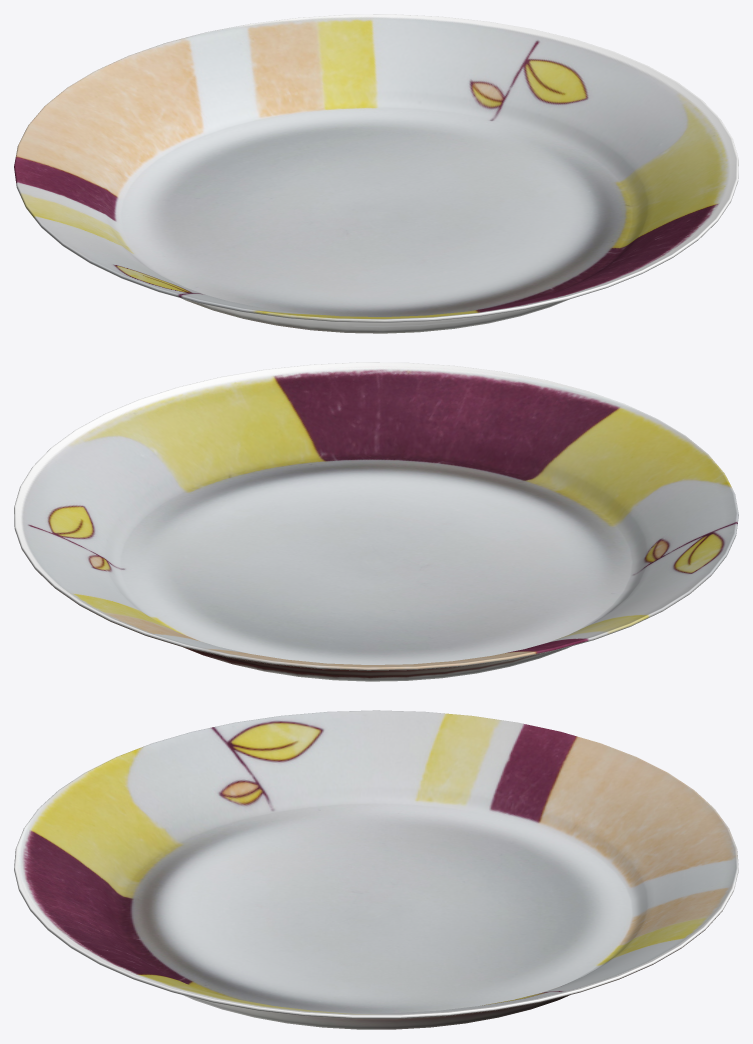
The model's file is plato_porcelana.glb.
3 views of the same model, one above another, from view 1: azimuth 30°, elevation 25°; view 2: azimuth 150°, elevation 25°; view 3: azimuth 270°, elevation 25° (orthographic).
Visible parts, largest first — view 1: Object_2; view 2: Object_2; view 3: Object_2.
Boxes of the visible parts, <box> form: Object_2: <box>14,14,738,333</box>; Object_2: <box>14,362,738,681</box>; Object_2: <box>14,710,738,1029</box>.
Size of the model in its own units: 22.92 by 1.81 by 22.93.
1 material, 1 textured.
